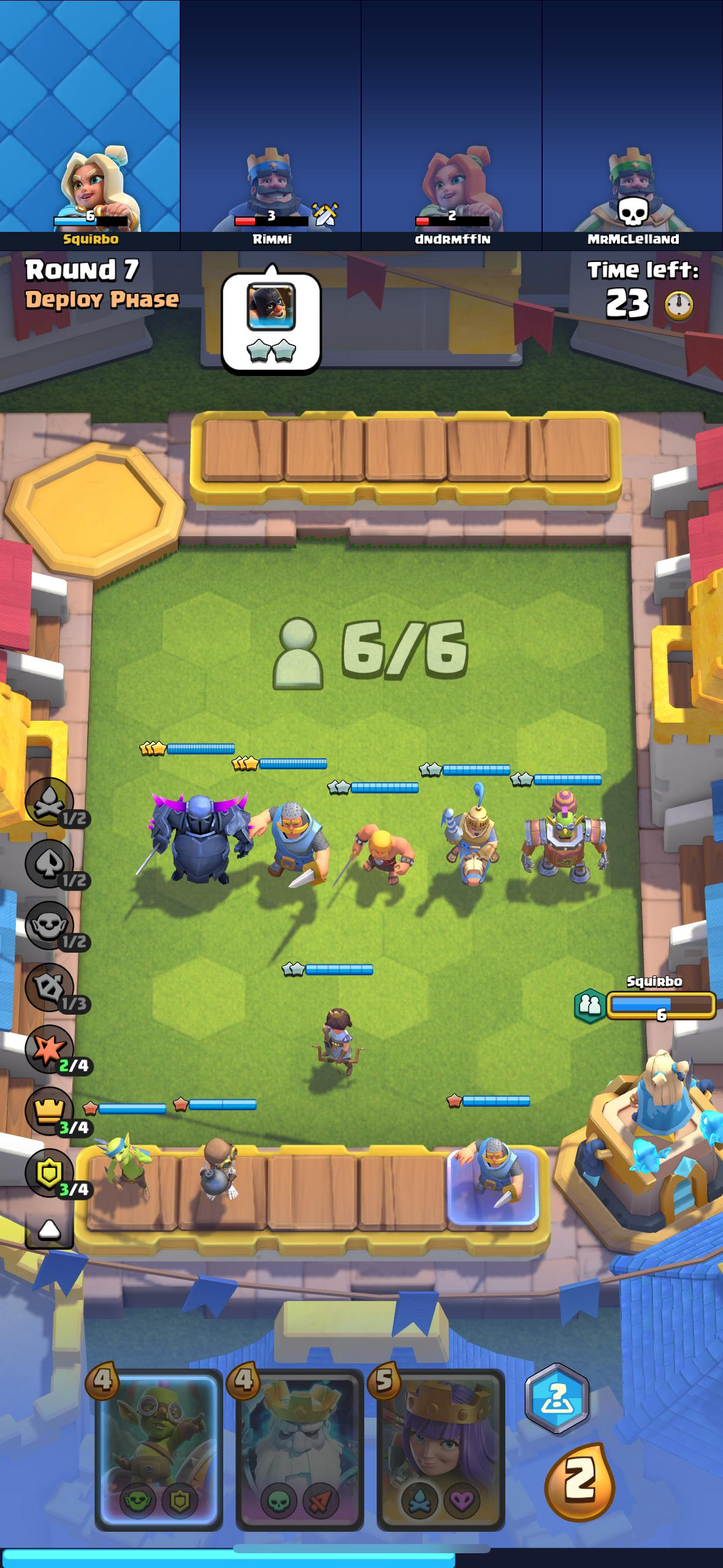barbarian: (348, 816, 416, 885)
bomber: (198, 1125, 245, 1204)
hand-ghost: (239, 1370, 364, 1528)
hand-machine: (99, 1372, 218, 1528)
hand-queen: (381, 1368, 505, 1528)
knight: (253, 792, 336, 895), (455, 1130, 528, 1215)
machine: (517, 789, 611, 892)
pekka: (148, 782, 251, 889)
prince: (437, 780, 504, 891)
princess: (308, 1002, 367, 1081)
spear: (98, 1126, 156, 1198)
